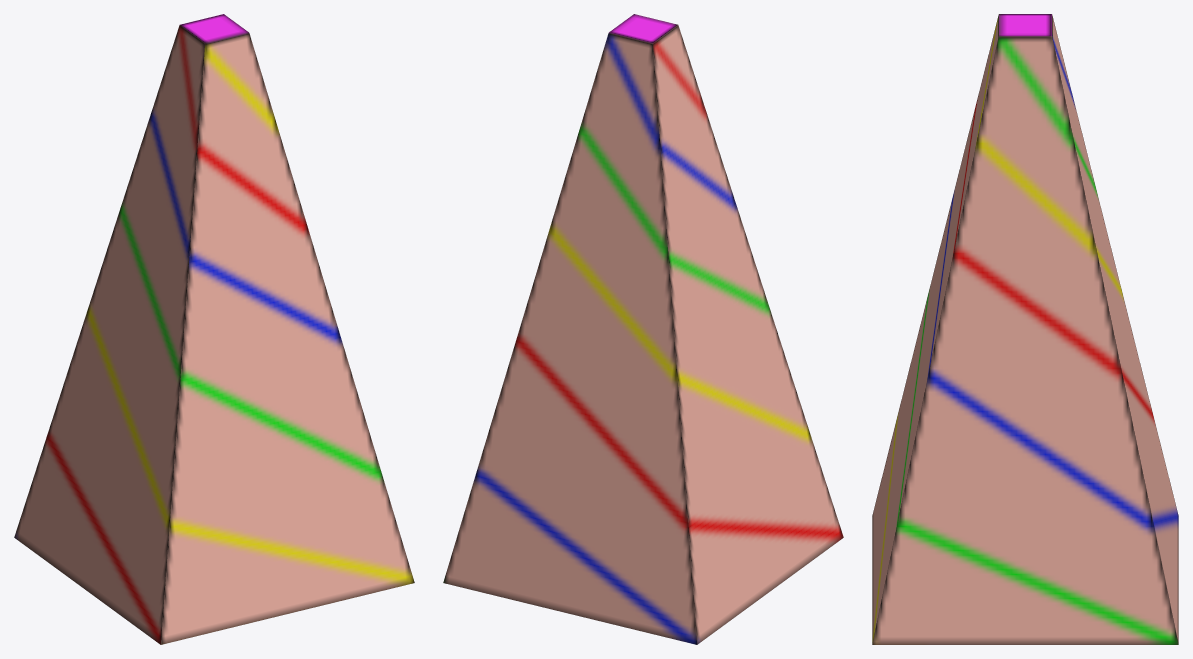
The model's file is bullet.fbx.
The picture shows the model from 3 angles, left to right: view 1: azimuth 30°, elevation 25°; view 2: azimuth 150°, elevation 25°; view 3: azimuth 270°, elevation 25°; orthographic projection. The views are drawn at different scales.
Visible parts, largest first — view 1: pCube1; view 2: pCube1; view 3: pCube1.
Boxes of the visible parts, <box> form: pCube1: <box>14,14,414,644</box>; pCube1: <box>443,14,843,644</box>; pCube1: <box>872,14,1178,644</box>.
Bounding box in the file's own units: 1 × 2 × 1.
1 material, 1 textured.
